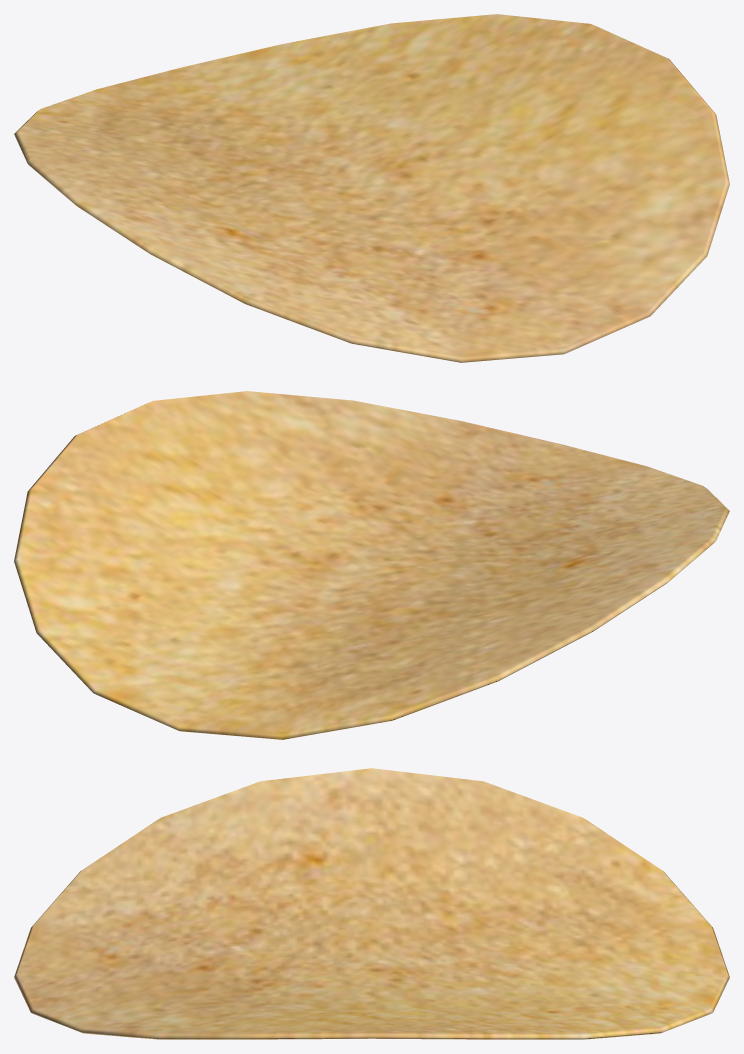
The model's file is shupian.fbx.
3 views of the same model, one above another, from view 1: azimuth 30°, elevation 25°; view 2: azimuth 150°, elevation 25°; view 3: azimuth 270°, elevation 25° (orthographic). The views are drawn at different scales.
Parts seen in each view (by area): view 1: shupian; view 2: shupian; view 3: shupian.
Part boxes in pixels (<box>): shupian: <box>14,14,729,362</box>; shupian: <box>14,391,729,739</box>; shupian: <box>14,768,729,1039</box>.
Bounding box in the file's own units: 4.33 × 0.5977 × 4.89.
Materials: 1 (1 with a texture image).
